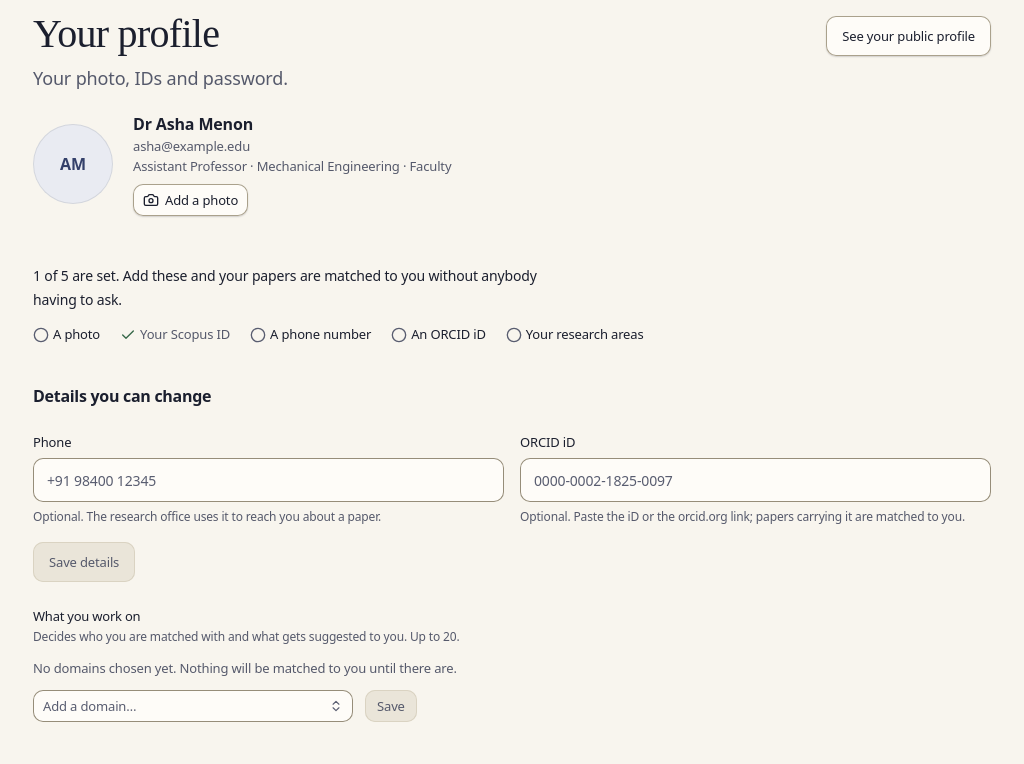
it: Profile — what you change and what the office keeps › shows the server's reason when a number is refused
Type "call me" into the field labelled "Phone". click: point(268, 480)
box: [33,458,504,502]
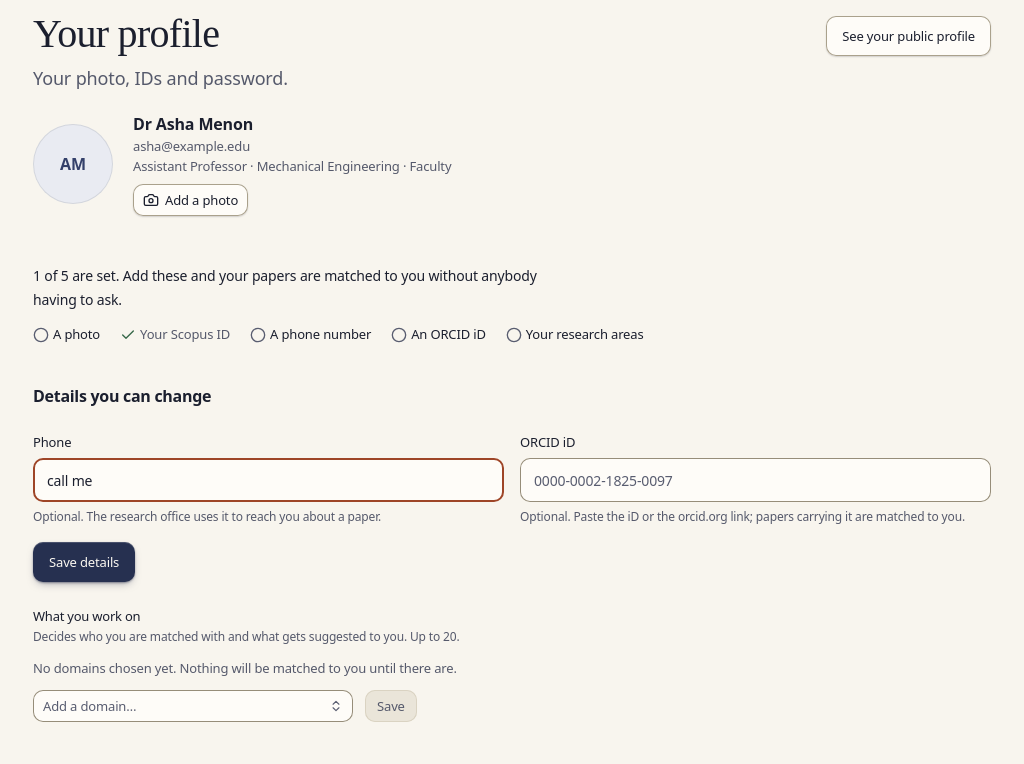
Click the button "Save details". click: point(84, 562)
box: [33,542,135,582]
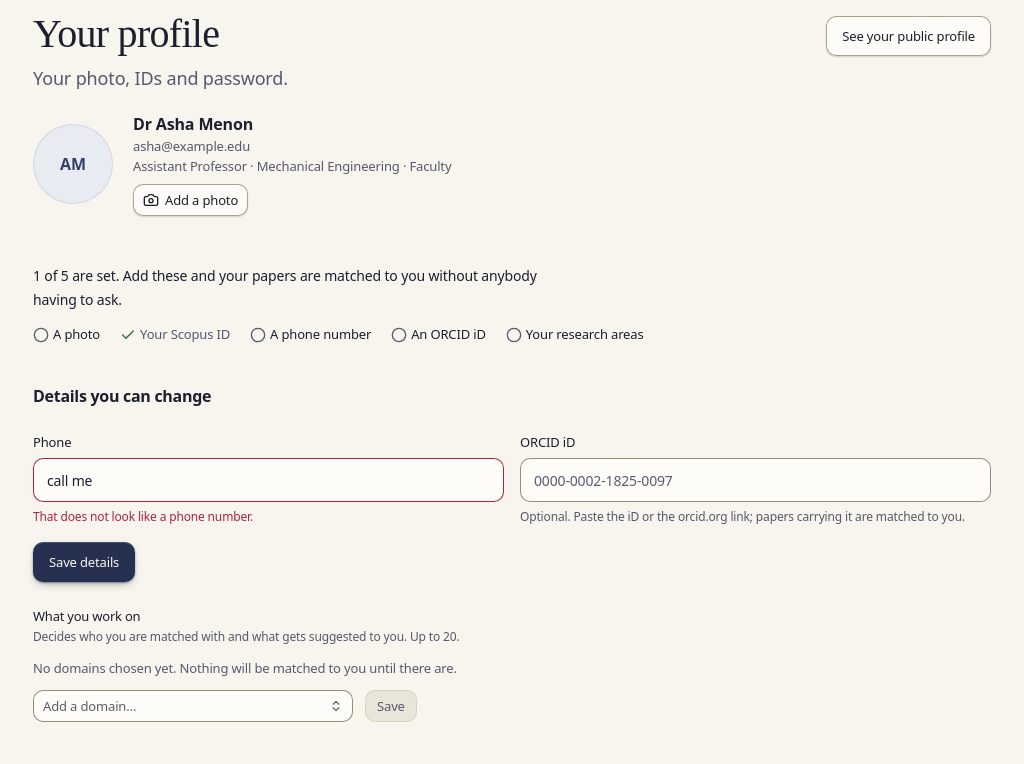
Result: the text "That does not look like a phone number." is shown at [33,508,253,525]
